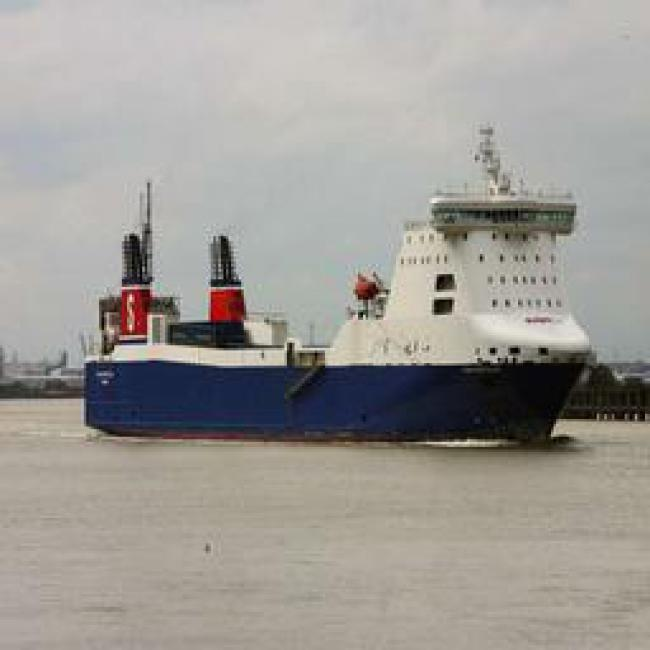Ship: (60, 273, 611, 471)
